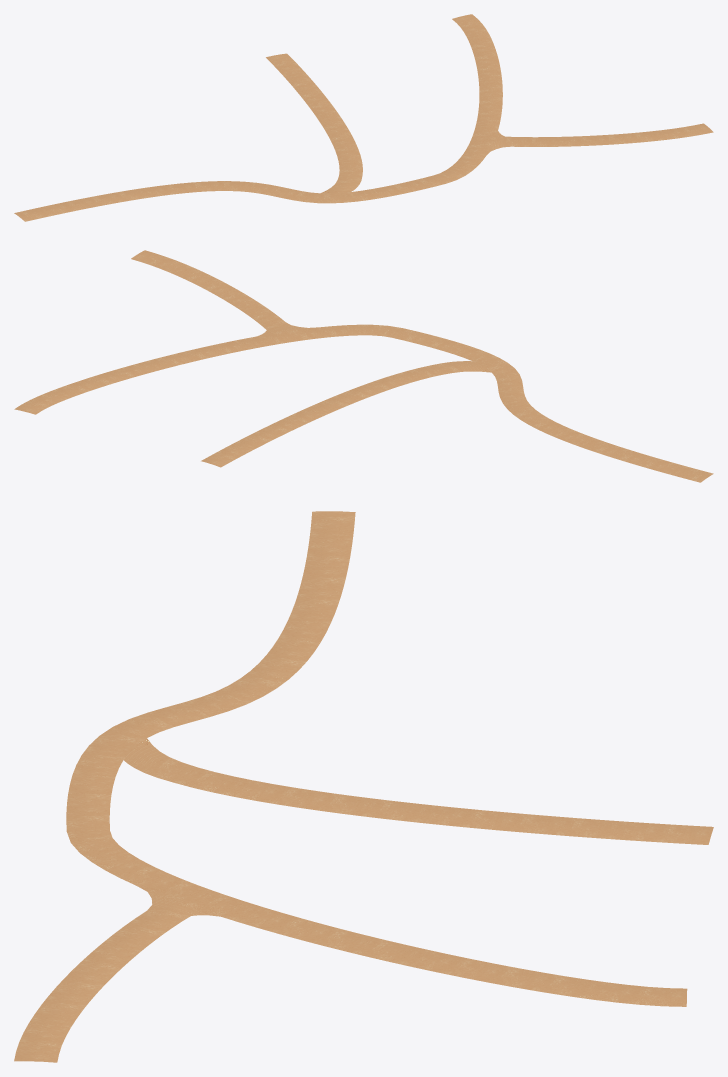
Rendered from path.fbx.
3 views of the same model, one above another, from view 1: azimuth 30°, elevation 25°; view 2: azimuth 150°, elevation 25°; view 3: azimuth 270°, elevation 25° (orthographic). The views are drawn at different scales.
Visible parts, largest first — view 1: Plane.064; view 2: Plane.064; view 3: Plane.064.
Boxes of the visible parts, box(x1,y1,x2,y2) form: Plane.064: box(14, 14, 713, 221); Plane.064: box(14, 250, 713, 482); Plane.064: box(14, 511, 713, 1062).
Bounding box in the file's own units: 6617 × 5.79 × 3552.
